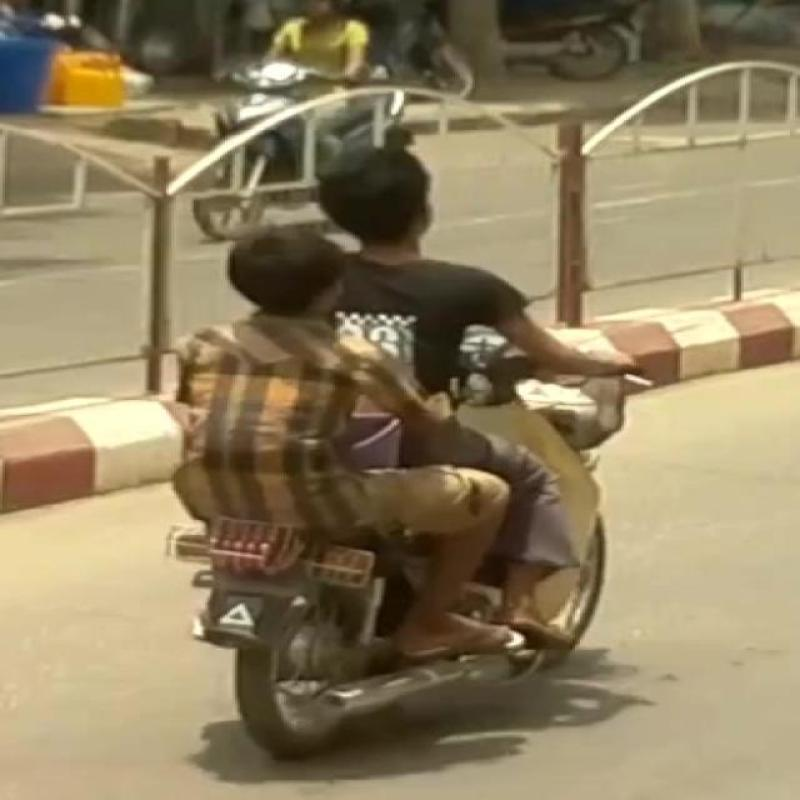nohelmet: (185, 222, 376, 327), (292, 136, 467, 226)
